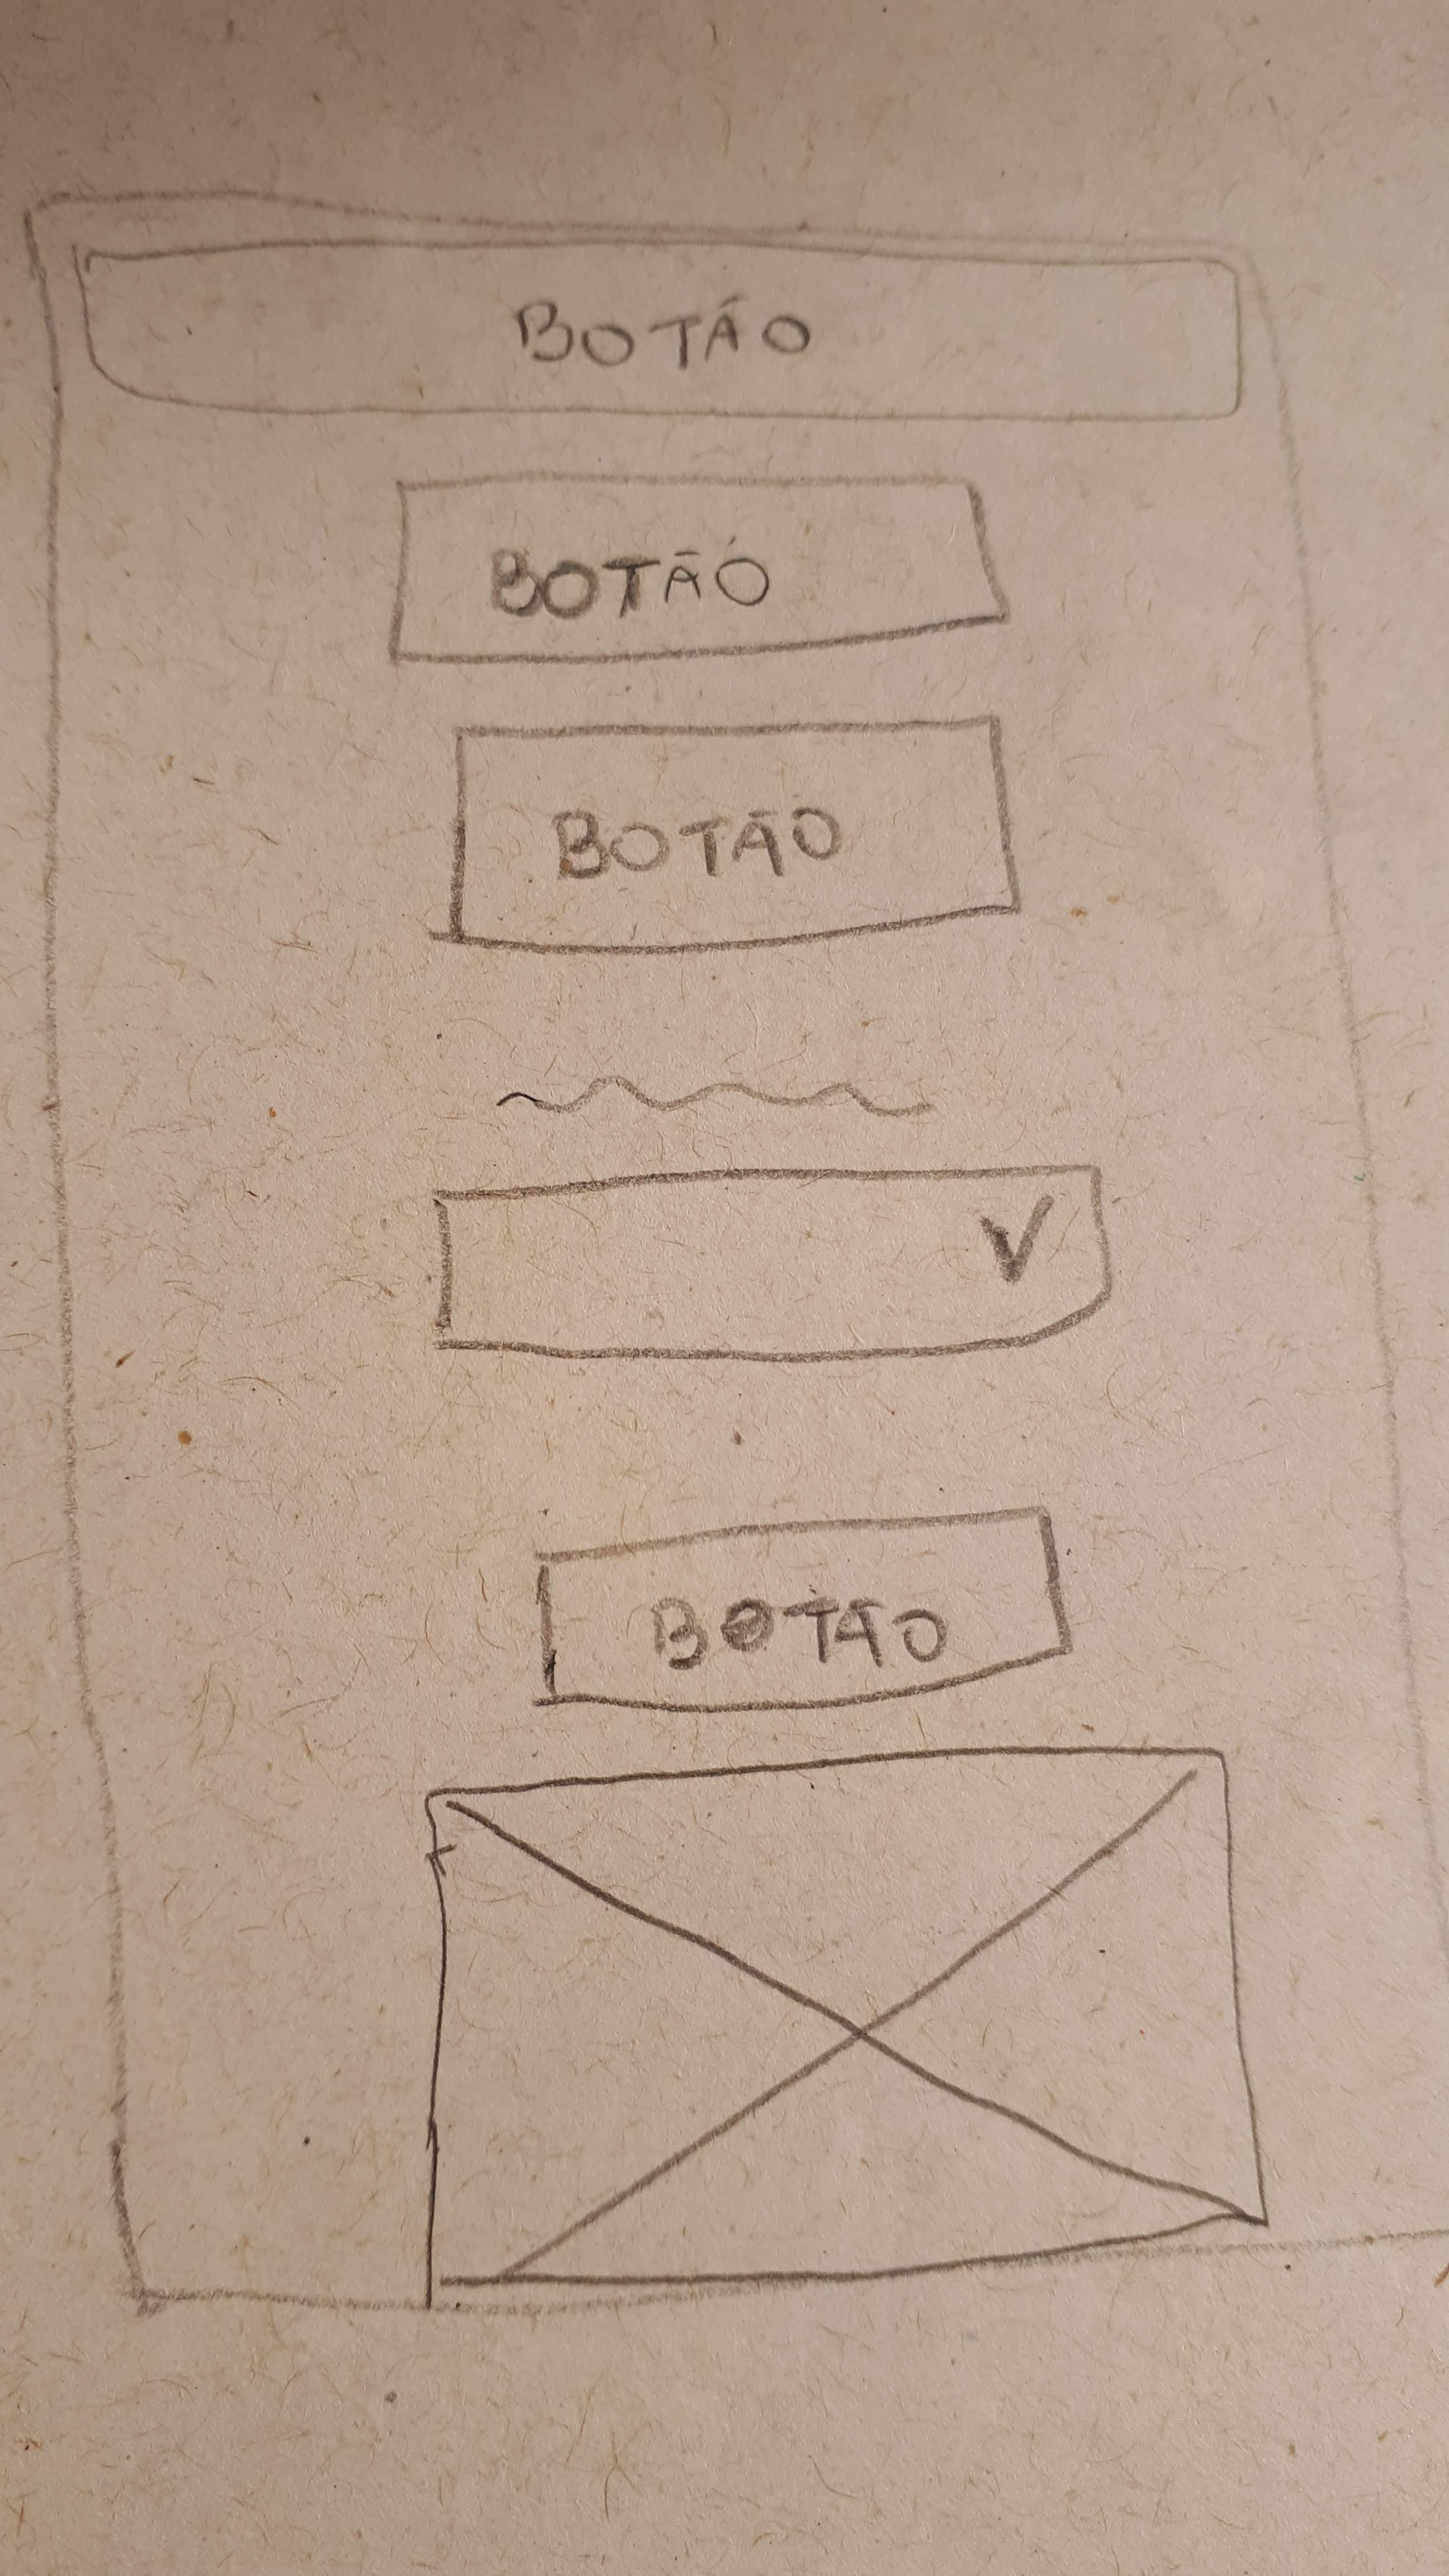Button: (78, 234, 1242, 419), (449, 713, 1019, 950), (395, 469, 1016, 665), (534, 1506, 1072, 1716)
Image: (423, 1744, 1267, 2286)
Label: (499, 1074, 934, 1120)
ListPicker: (430, 1169, 1113, 1359)
Screen: (21, 186, 1447, 2312)
